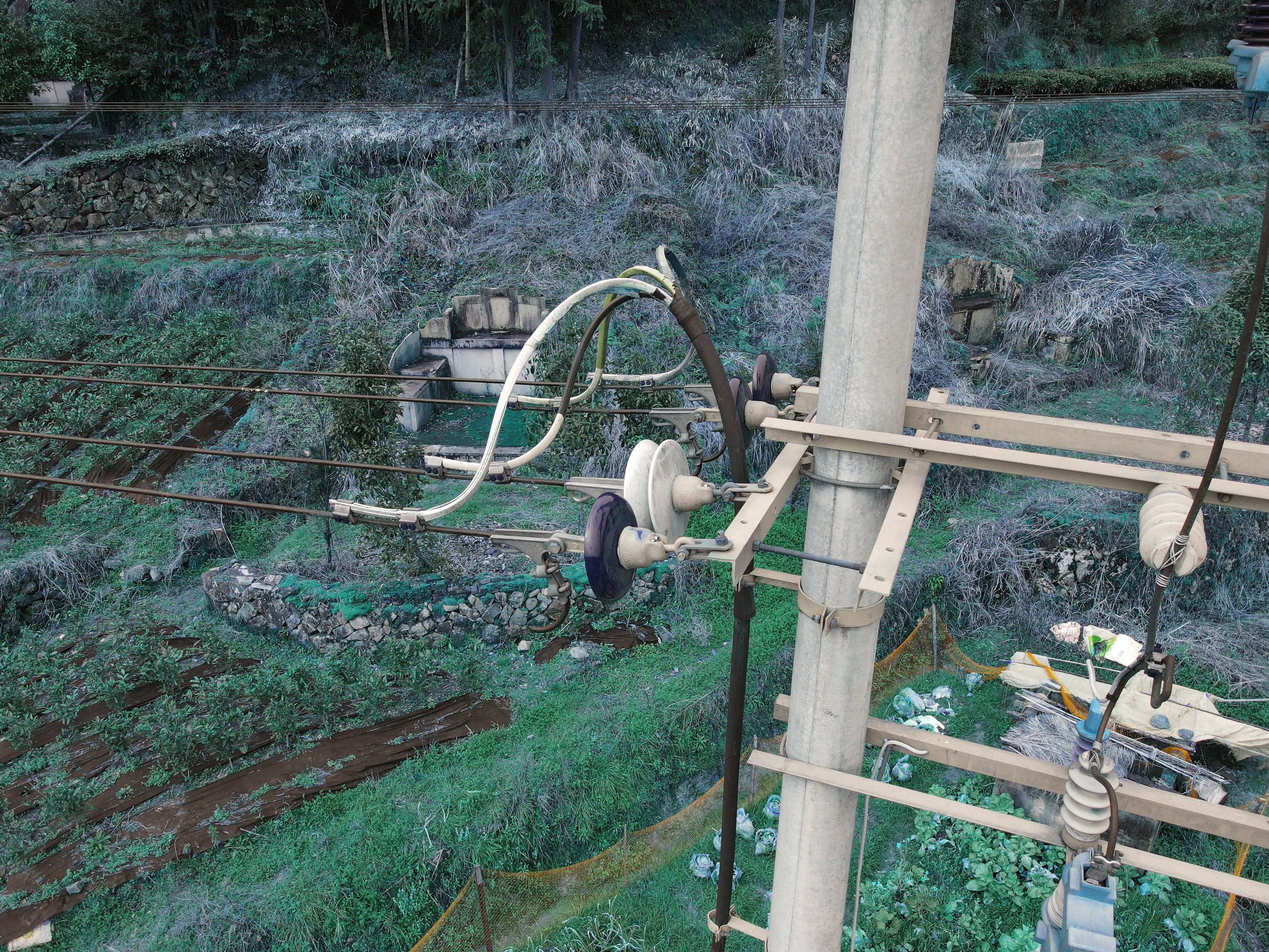severe_soiling_no_discharge_whole: (623, 437, 713, 538), (1061, 749, 1120, 849)
